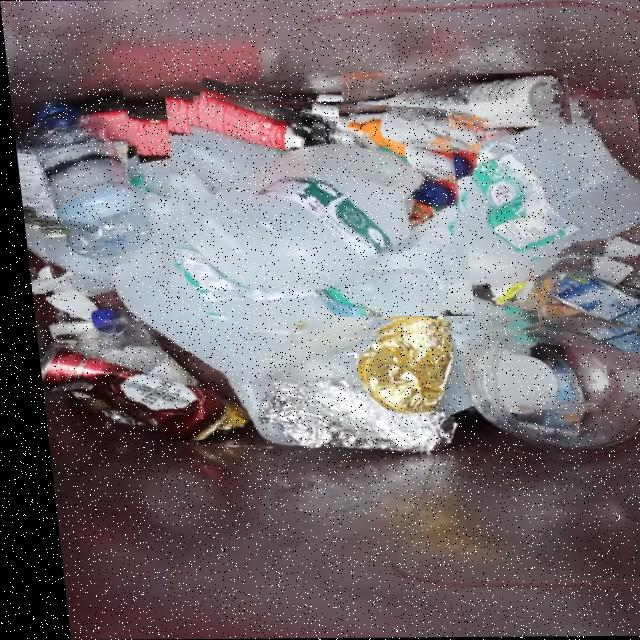can: (30, 337, 222, 440), (526, 256, 640, 331)
plasticbottle: (150, 99, 640, 345), (162, 91, 469, 317), (6, 72, 149, 274), (339, 73, 570, 134)
